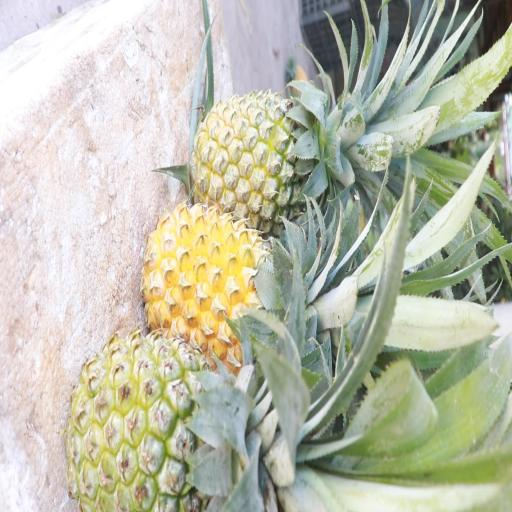------------------------------: (73, 333, 264, 512), (192, 90, 348, 230)
Pineapple - v8 v1: (144, 201, 302, 357)
